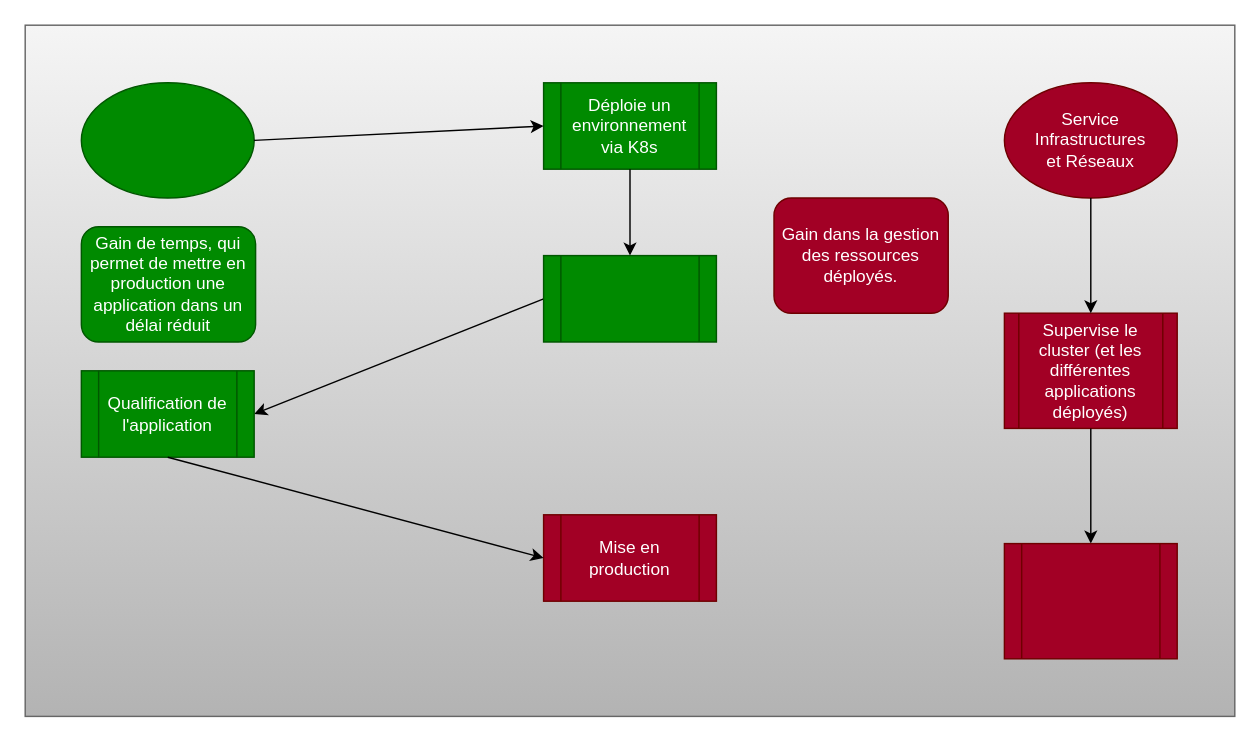
Image size: 1260x742. Some labels were removed from this diagram. The shapes that lost their labels are listed below. From the top down, each one's centre as x and y in pixels, then its label:
At (x=167, y=139): "Développeurs".
At (x=629, y=298): "Déploie l'application dans l'environnement".
At (x=1090, y=600): "Suppression des environnement de qualif des applications déployés".
